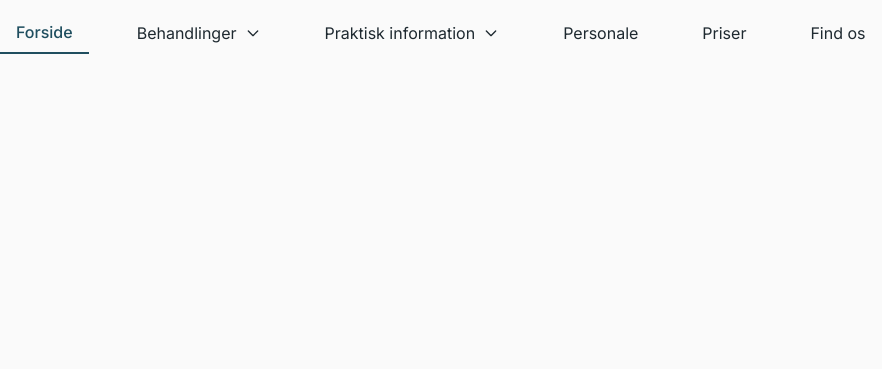
Test case: Navigation › opens dropdown on click
Navigation uses buttons for items with children
Click the button "Behandlinger": coordinates (199, 33) x1=121 y1=13 x2=277 y2=53
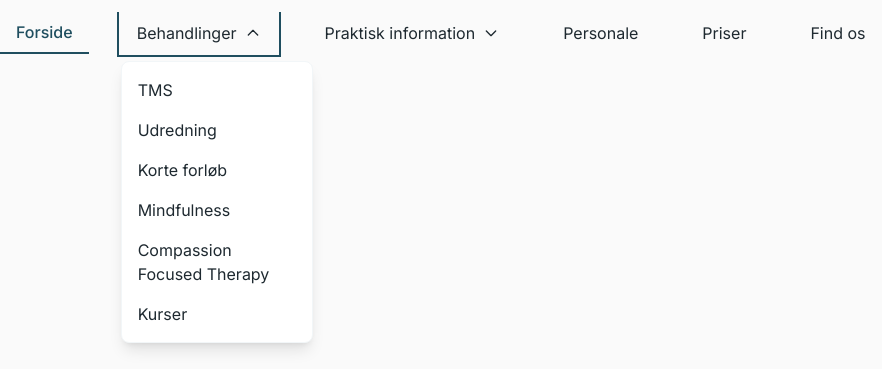
expect the menu item "TMS" is shown: met, box x1=138 y1=80 x2=173 y2=100
